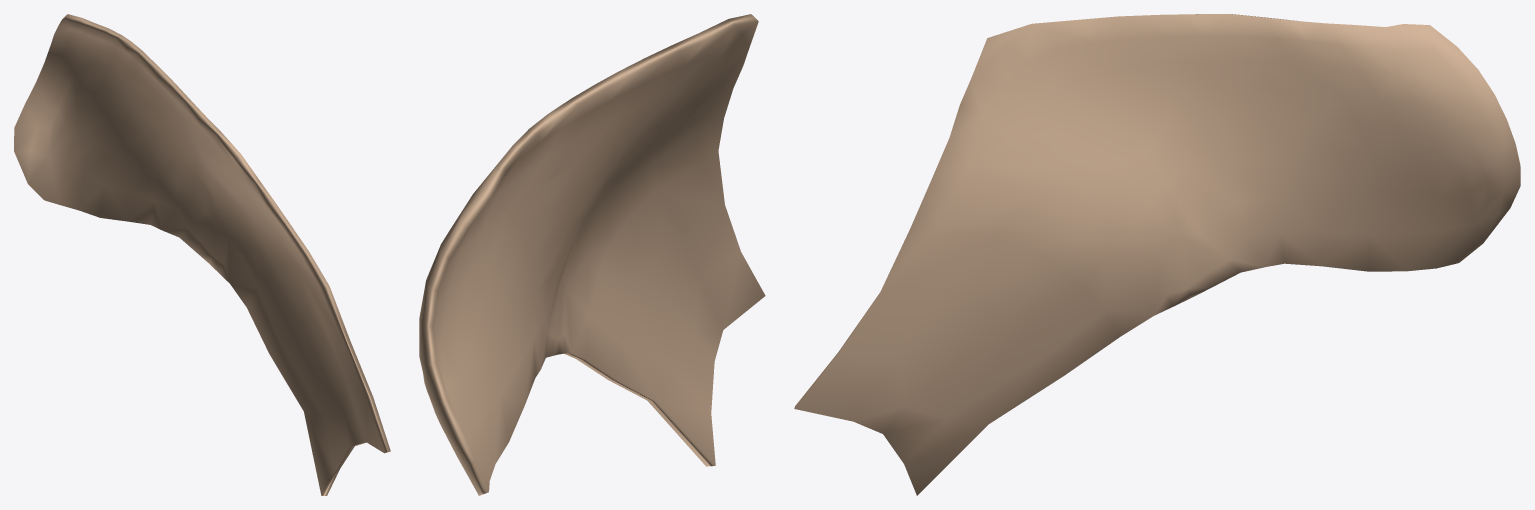
3 views of the same model, side by side, from view 1: azimuth 30°, elevation 25°; view 2: azimuth 150°, elevation 25°; view 3: azimuth 270°, elevation 25° (orthographic). The views are drawn at different scales.
Parts seen in each view (by area): view 1: 右侧屈肌支持带; view 2: 右侧屈肌支持带; view 3: 右侧屈肌支持带.
Boxes of the visible parts, box(x1,y1,x2,y2) form: 右侧屈肌支持带: box(14, 14, 390, 495); 右侧屈肌支持带: box(419, 14, 765, 495); 右侧屈肌支持带: box(794, 14, 1520, 495).
Size of the model in its own units: 0.0235 by 0.0802 by 0.1172.
